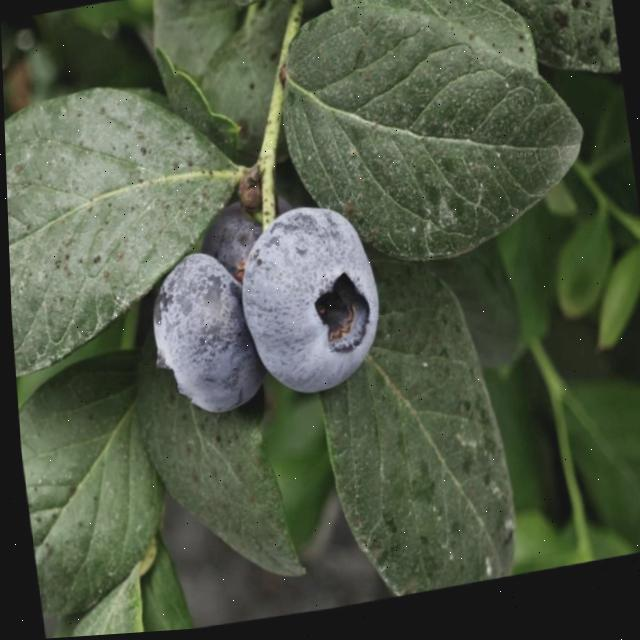RipeBlueBerry: (228, 198, 388, 411), (141, 245, 262, 427)
